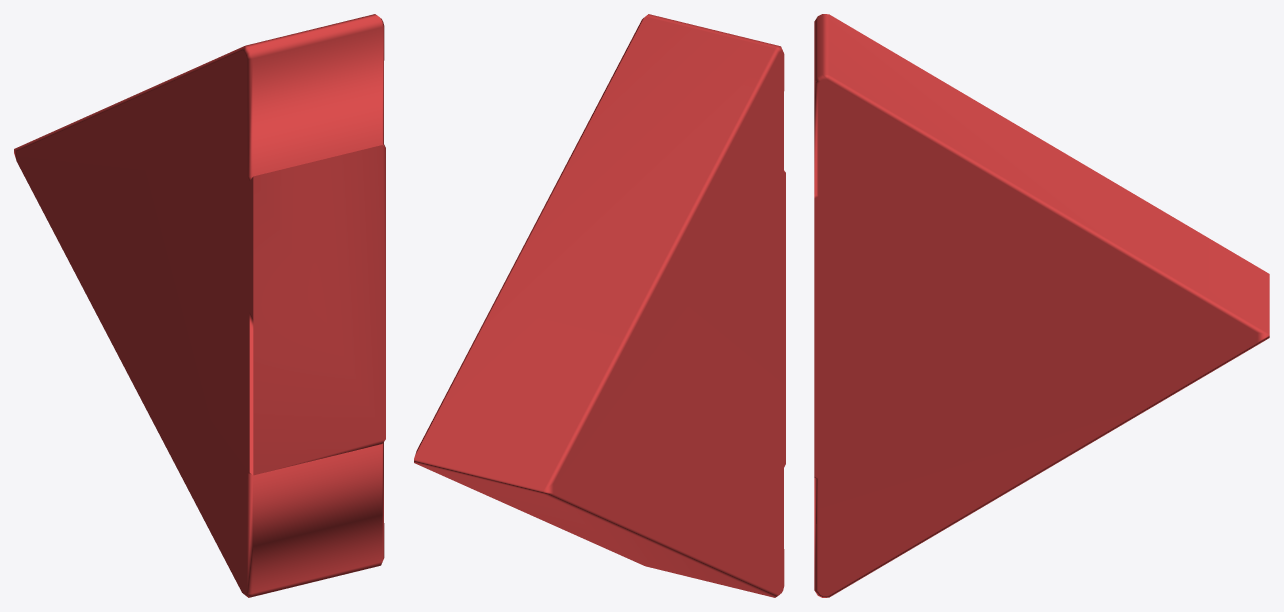
Rendered from prototype1_2arrow.fbx.
The picture shows the model from 3 angles, left to right: view 1: azimuth 30°, elevation 25°; view 2: azimuth 150°, elevation 25°; view 3: azimuth 270°, elevation 25°; orthographic projection. The views are drawn at different scales.
Parts seen in each view (by area): view 1: Arrow01.010; view 2: Arrow01.010; view 3: Arrow01.010.
Part boxes in pixels (x1,y1,x2,y2): Arrow01.010: (14,14,385,597); Arrow01.010: (414,14,785,597); Arrow01.010: (814,14,1269,597).
Size of the model in its own units: 140 by 536 by 422.
